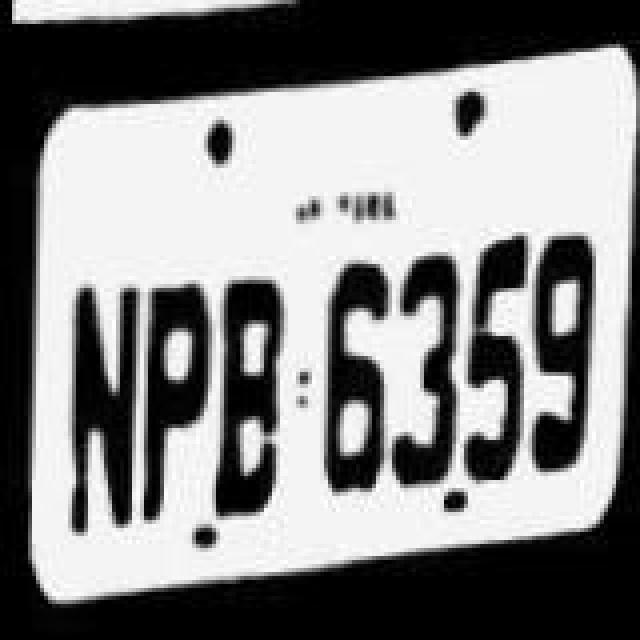3: (382, 232, 466, 492)
5: (454, 208, 530, 496)
6: (300, 240, 388, 508)
9: (520, 218, 600, 494)
B: (204, 250, 292, 526)
N: (56, 262, 144, 538)
P: (130, 244, 214, 528)
